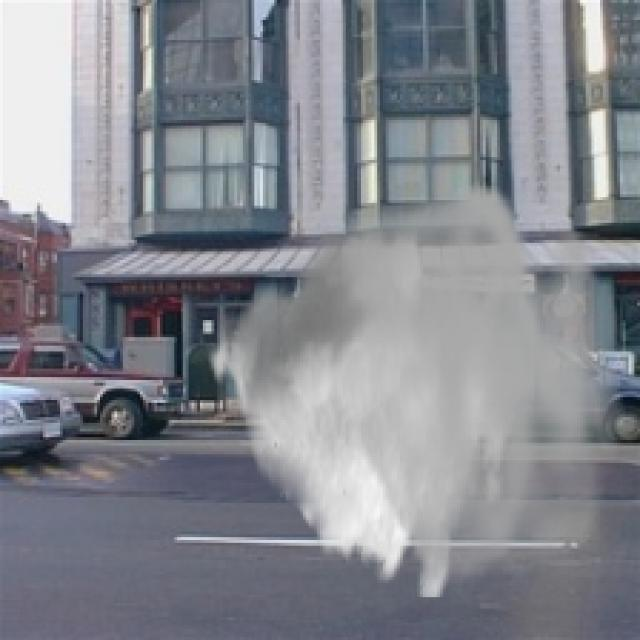Smoke: (205, 177, 626, 597)
